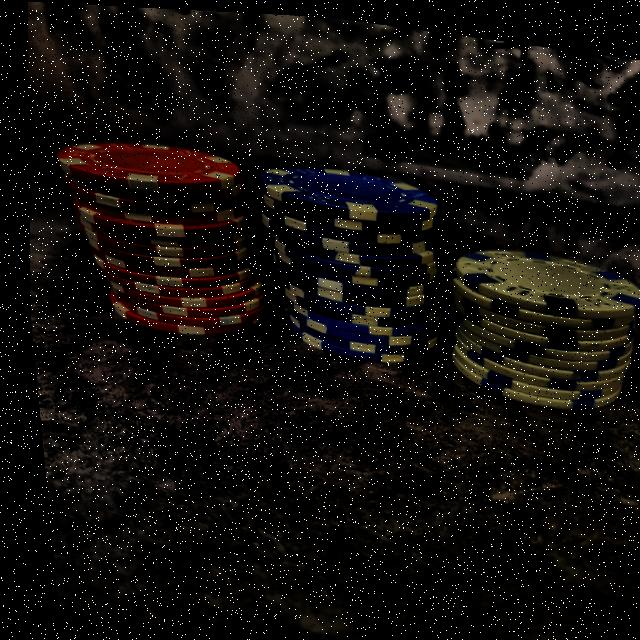Chip: (30, 105, 289, 358), (229, 131, 459, 385), (421, 208, 640, 430)
